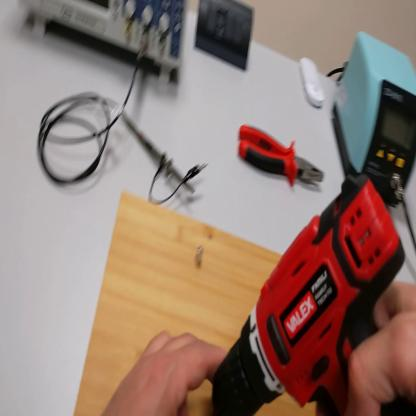electric screwdriver: (209, 176, 416, 416)
hand: (315, 282, 416, 415), (104, 327, 228, 416)
oscilloscope: (20, 1, 188, 85)
oscilloscope probe tip: (124, 115, 194, 193)
pliers: (238, 124, 326, 189)
welder station: (332, 32, 416, 208)
working area: (75, 193, 318, 414)
